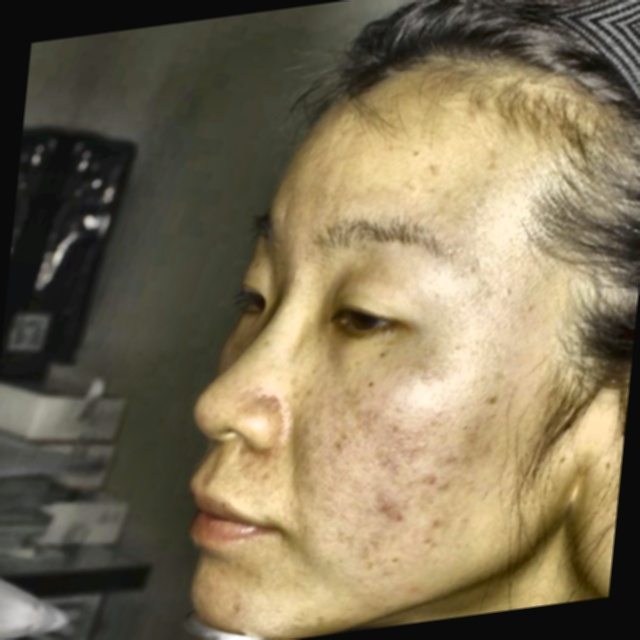comedone: (368, 485, 412, 532)
